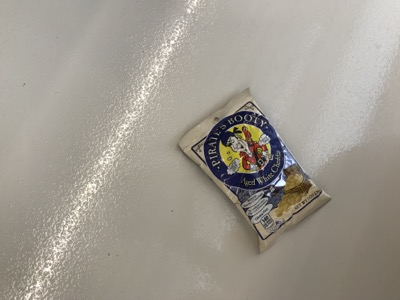pirate booty: (179, 87, 332, 254)
